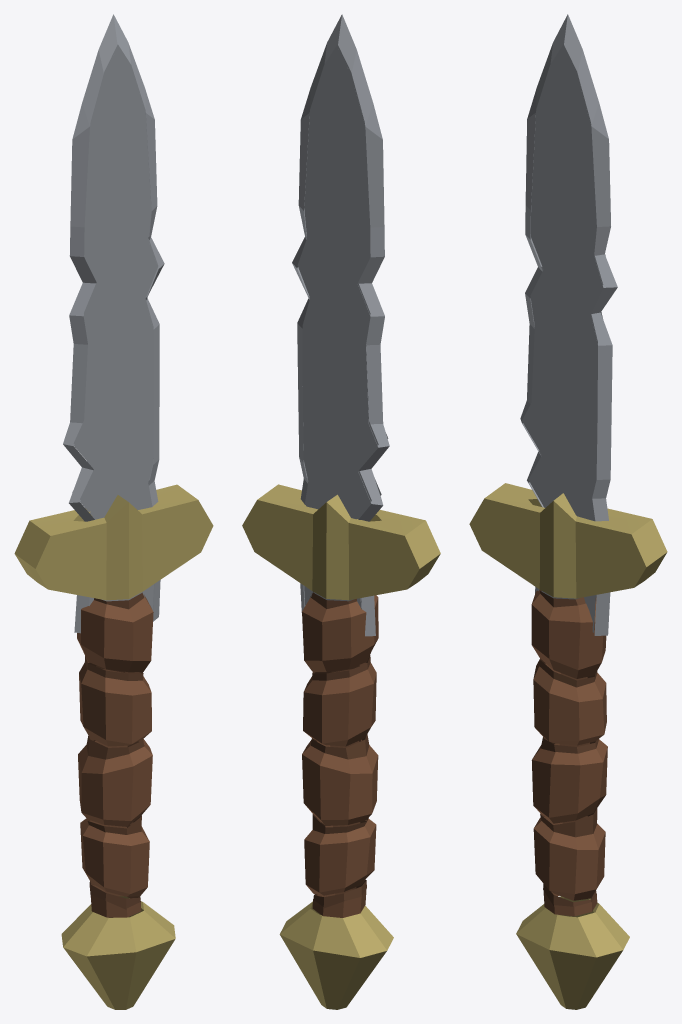
File: armory-assassin-4.glb
The picture shows the model from 3 angles, left to right: view 1: azimuth 30°, elevation 25°; view 2: azimuth 150°, elevation 25°; view 3: azimuth 330°, elevation 25°; orthographic projection.
Parts seen in each view (by area): view 1: Dagger_2_Cylinder.011; view 2: Dagger_2_Cylinder.011; view 3: Dagger_2_Cylinder.011.
Part boxes in pixels (left/top/right/bottom): Dagger_2_Cylinder.011: left=14, top=14, right=213, bottom=1009; Dagger_2_Cylinder.011: left=242, top=14, right=440, bottom=1009; Dagger_2_Cylinder.011: left=469, top=14, right=667, bottom=1009.
Size of the model in its own units: 0.6617 by 3.53 by 0.2683.
